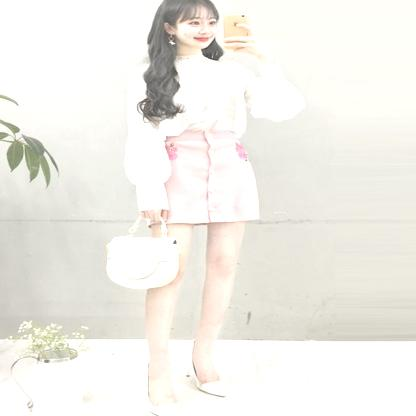dress: (124, 46, 300, 214)
jacket: (151, 124, 273, 226)
